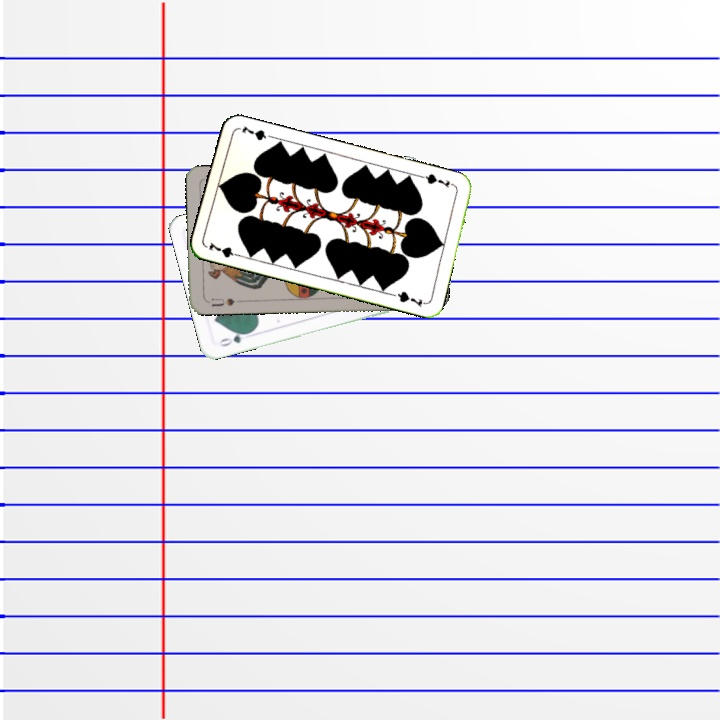G7: (205, 238, 244, 260), (418, 169, 458, 190)
GO: (214, 328, 253, 349)
SU: (203, 294, 244, 309)
